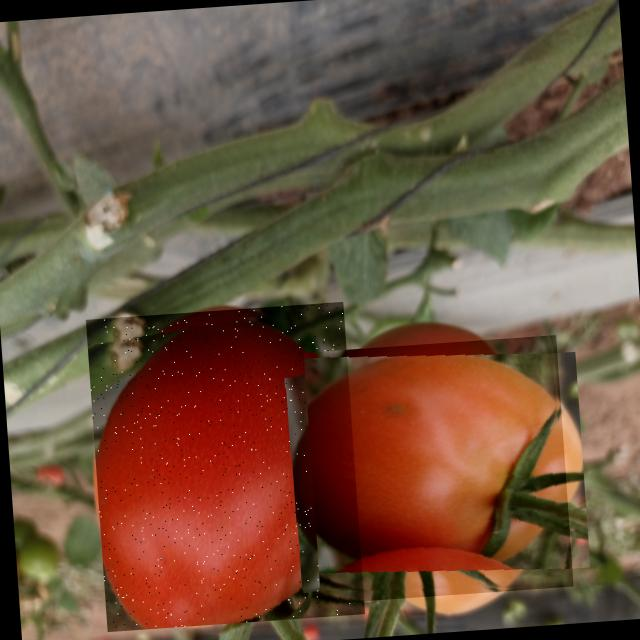Ripe Tomato: (86, 302, 364, 632), (303, 334, 573, 604)
